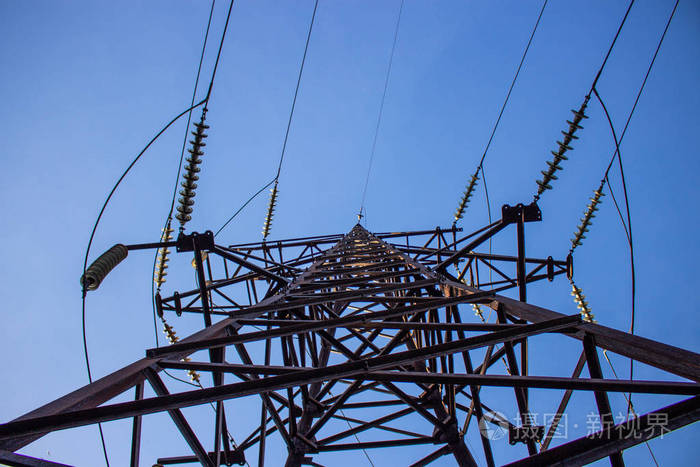insulator: (538, 110, 590, 189), (174, 121, 210, 223), (80, 241, 128, 287), (162, 323, 198, 382), (572, 189, 605, 246), (452, 176, 480, 217), (155, 225, 172, 286), (260, 188, 279, 234), (572, 287, 596, 322)
